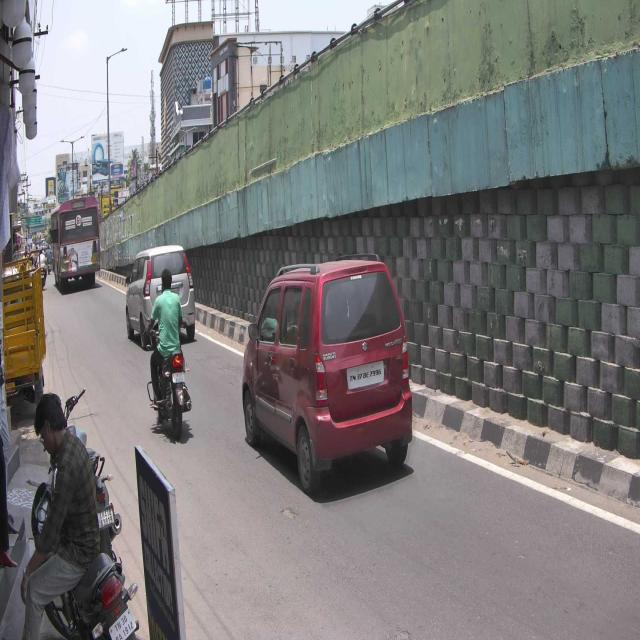single_rider: (142, 268, 194, 441)
